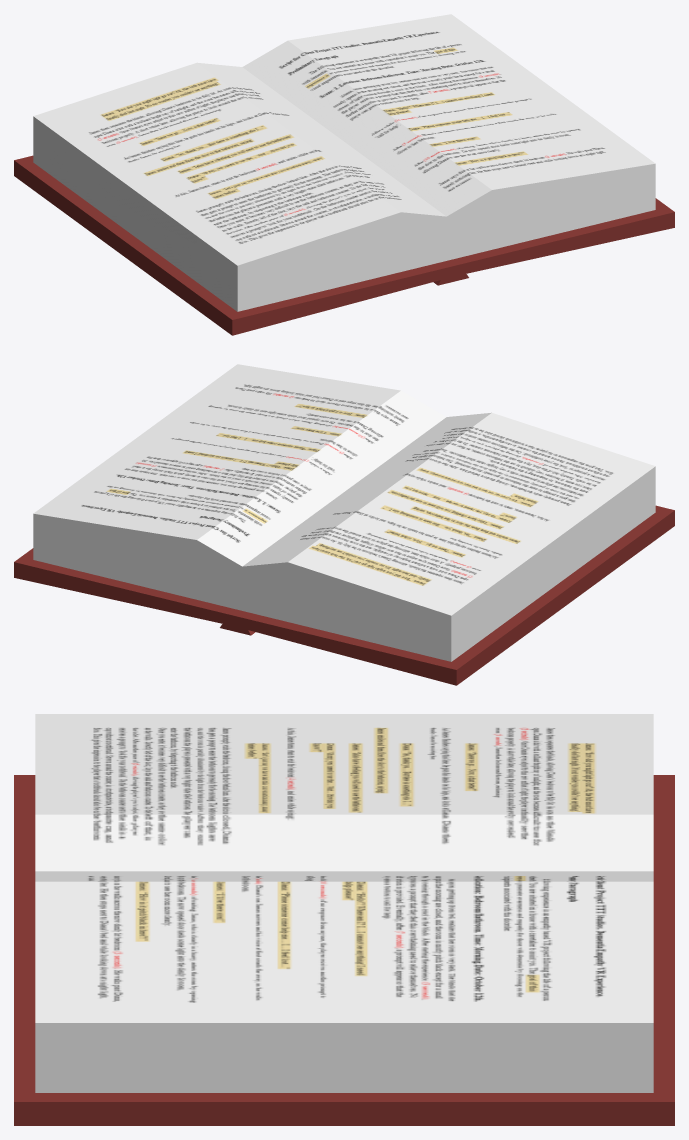
Rendered from sm_openBook1.fbx.
3 renders of one model, top to bottom at view 1: azimuth 30°, elevation 25°; view 2: azimuth 150°, elevation 25°; view 3: azimuth 270°, elevation 25°, orthographic. The views are drawn at different scales.
Visible parts, largest first — view 1: Cube.036; view 2: Cube.036; view 3: Cube.036.
Boxes of the visible parts, x1,y1,x2,y2 form: Cube.036: [14, 14, 674, 335]; Cube.036: [14, 364, 674, 685]; Cube.036: [14, 714, 674, 1125].
Bounding box in the file's own units: 24.71 × 4.03 × 21.11.
